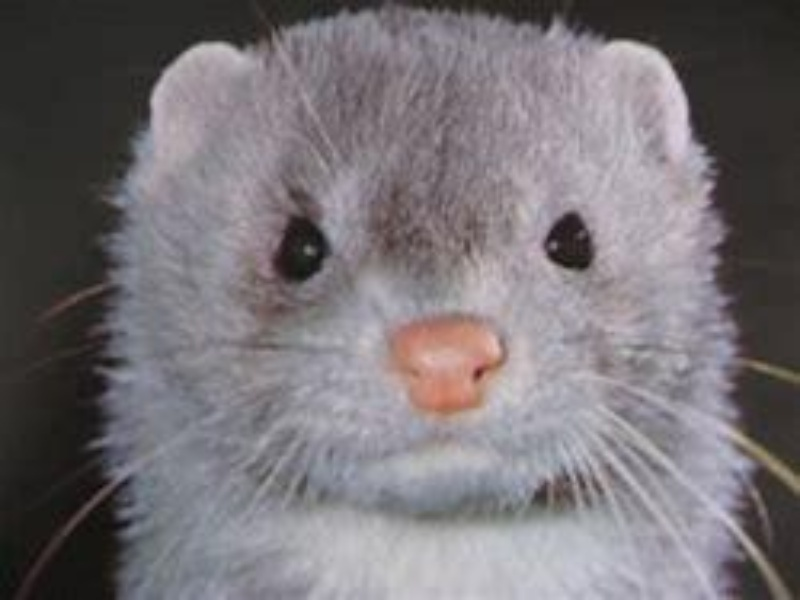minkish: (95, 9, 739, 600)
